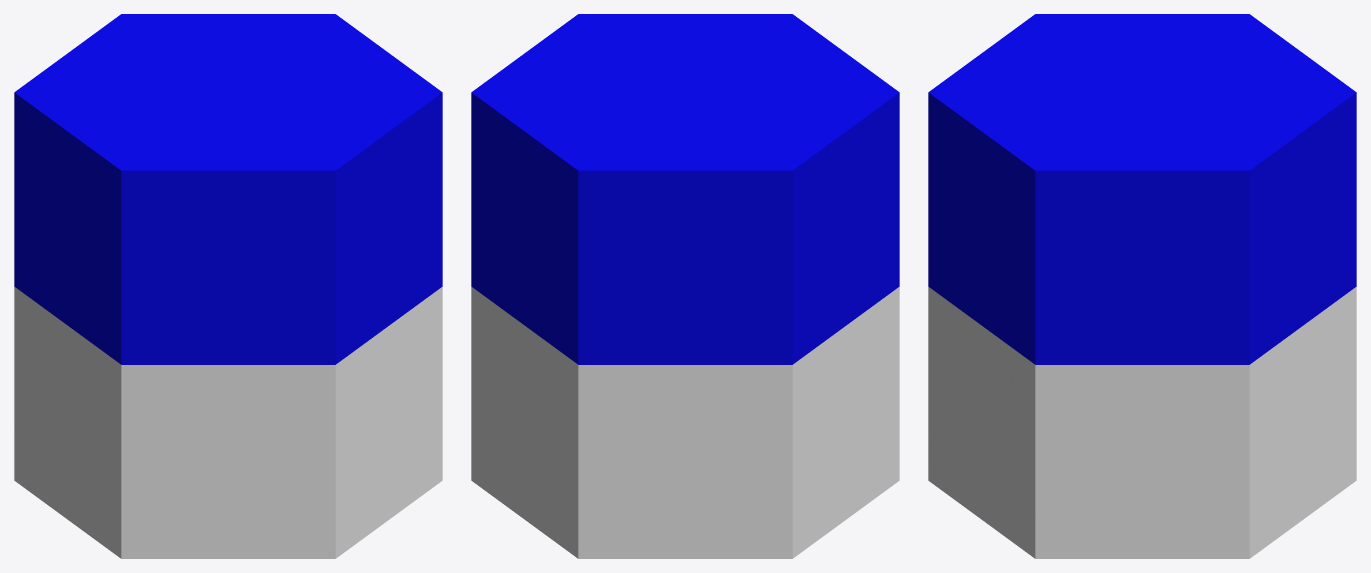
Rendered from HexCellWaterV2.fbx.
The picture shows the model from 3 angles, left to right: view 1: azimuth 30°, elevation 25°; view 2: azimuth 150°, elevation 25°; view 3: azimuth 270°, elevation 25°; orthographic projection.
Parts seen in each view (by area): view 1: Circle; view 2: Circle; view 3: Circle.
Boxes of the visible parts, x1,y1,x2,y2 form: Circle: [14, 14, 442, 558]; Circle: [471, 14, 899, 558]; Circle: [928, 14, 1356, 558].
Bounding box in the file's own units: 173 × 200 × 200.
